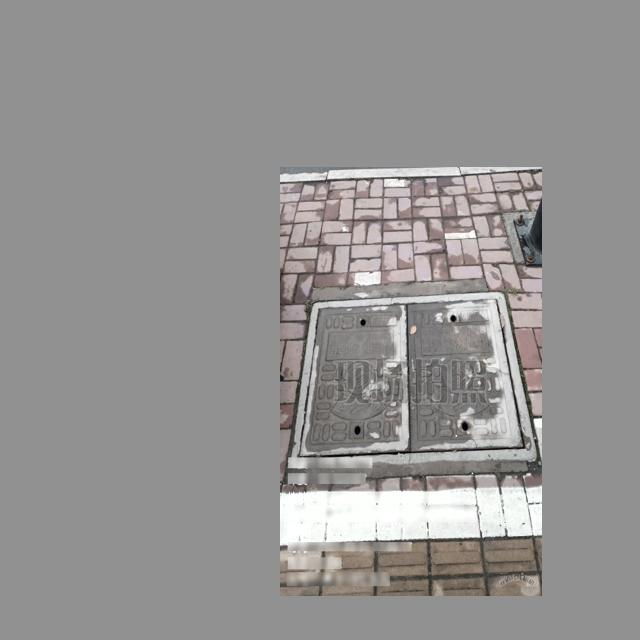good: (289, 291, 536, 462)
